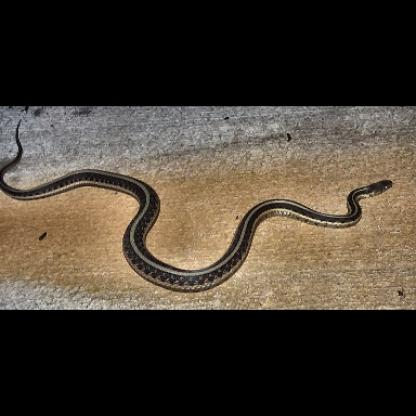Snake: (5, 128, 392, 293)
